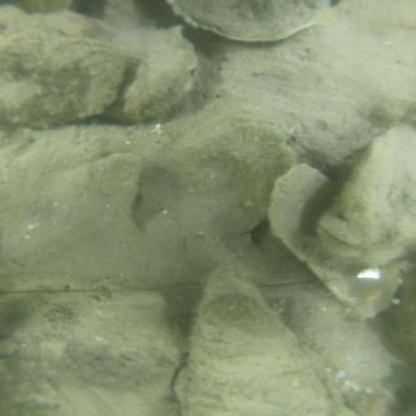3: (181, 278, 339, 411), (170, 0, 322, 39)
Oyster-Closed: (0, 290, 186, 416)
Oyster-Open: (1, 9, 125, 126), (322, 120, 413, 264), (285, 286, 391, 395), (124, 28, 197, 119)
